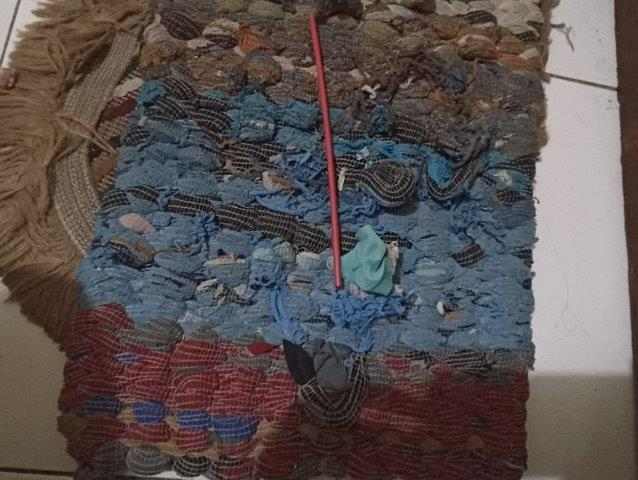sedotan: (310, 16, 342, 285)
